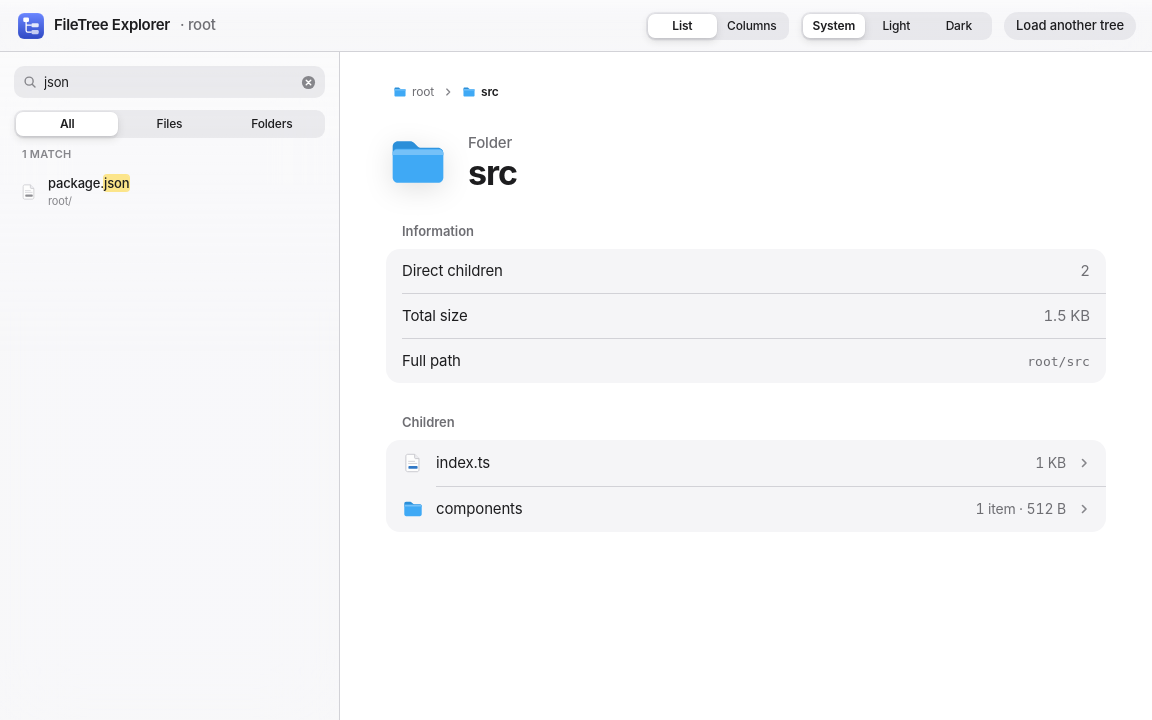
Scenario: searching by name › keeps the search while browsing folder children
The image size is (1152, 720).
Click the link "index.ts".
click(463, 462)  # box [436,453,490,472]
(page scrolled)
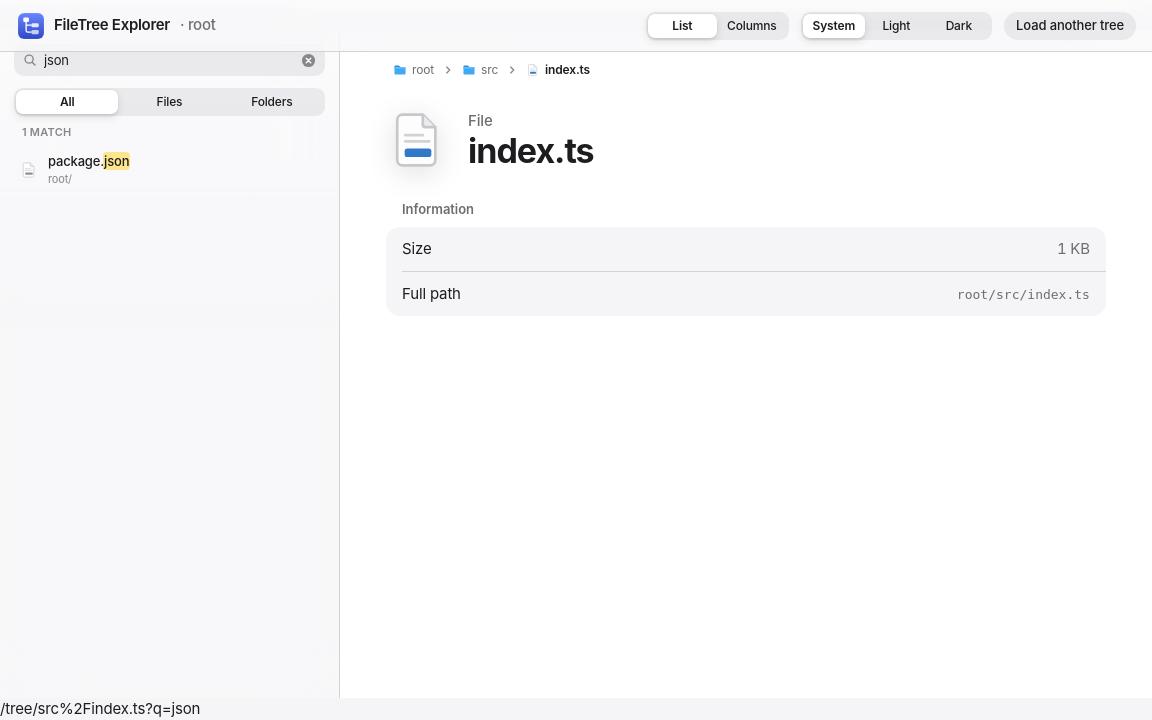
Expected: the text with test id "location" reads "/tree/src%2Findex.ts?q=json", [0,699,200,718]
